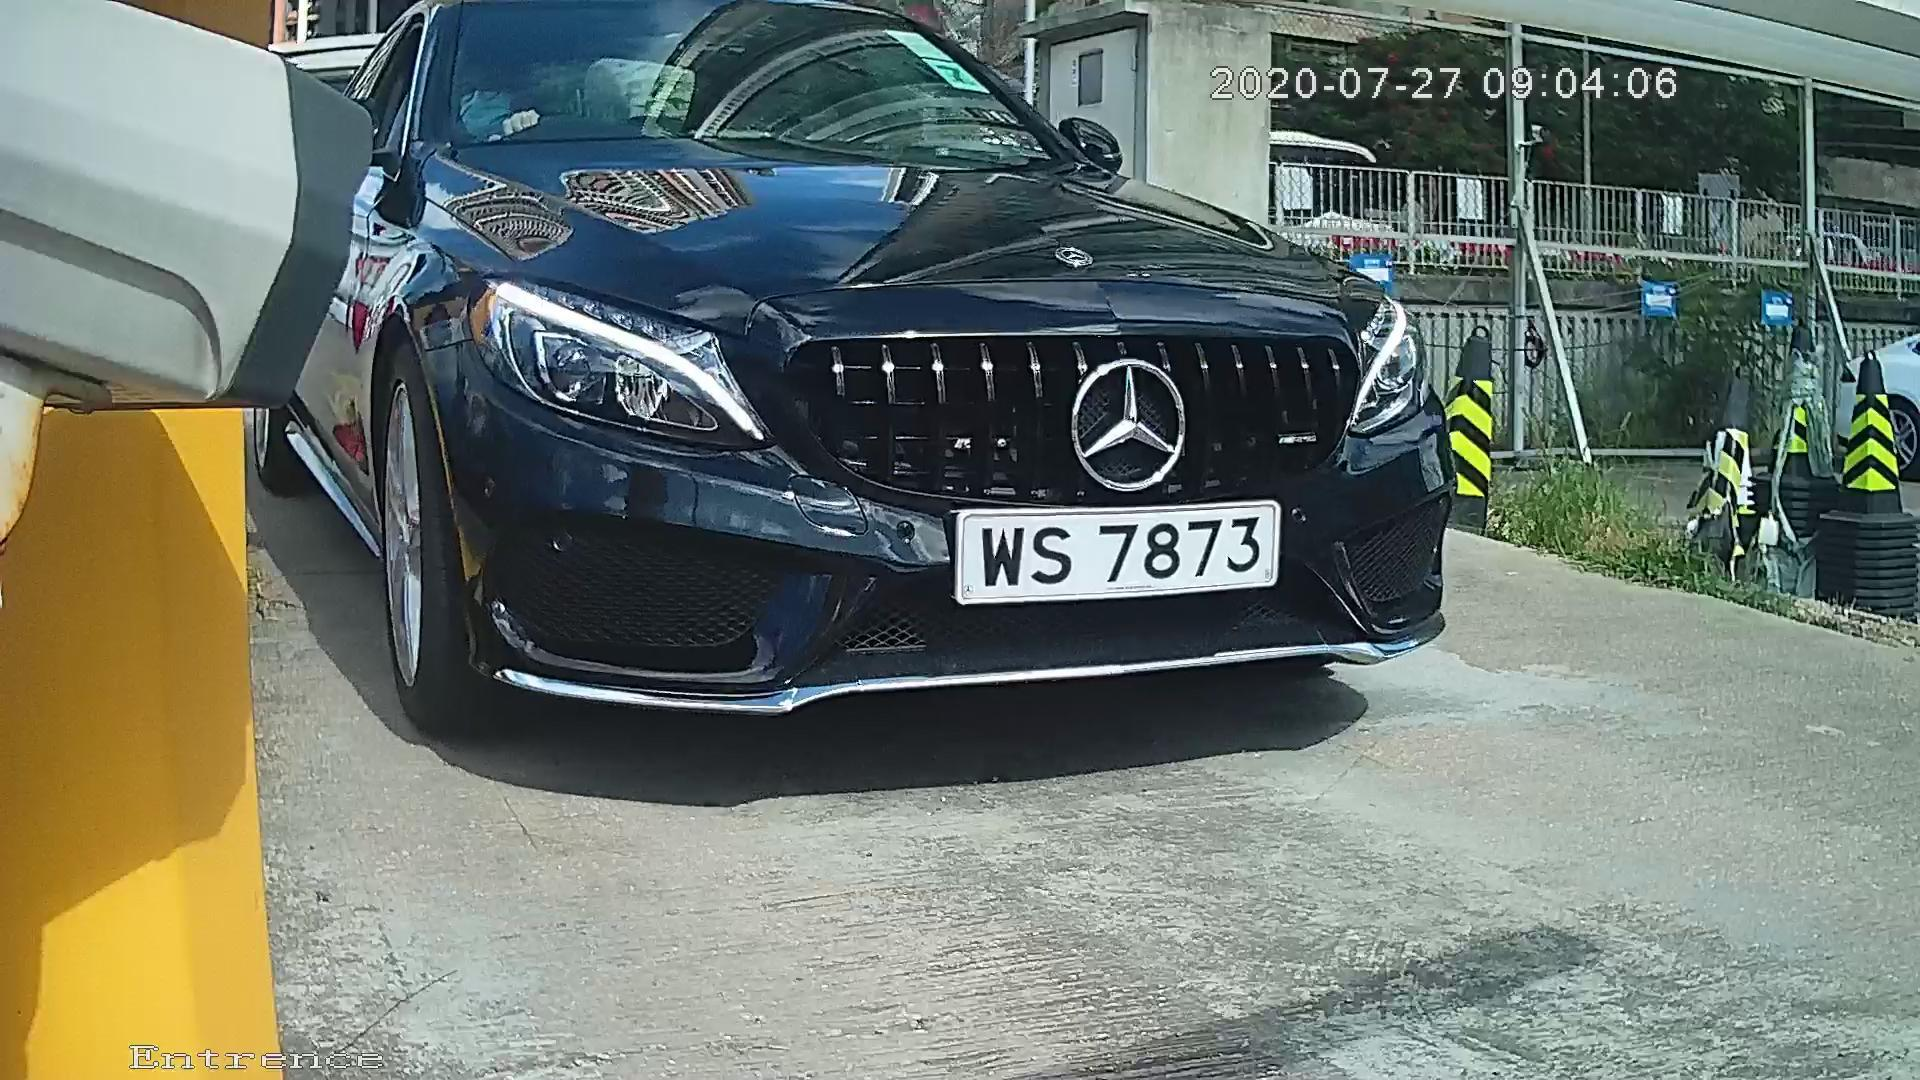License Plate: (926, 492, 1295, 608)
